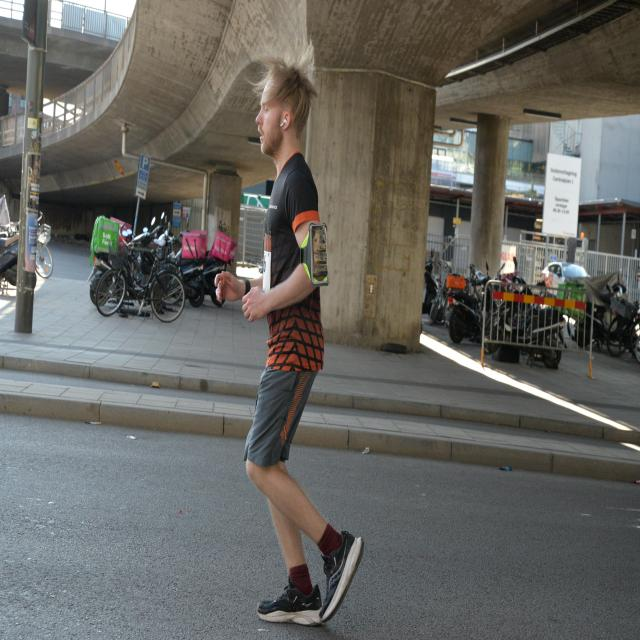runner-detect: (204, 41, 378, 626)
